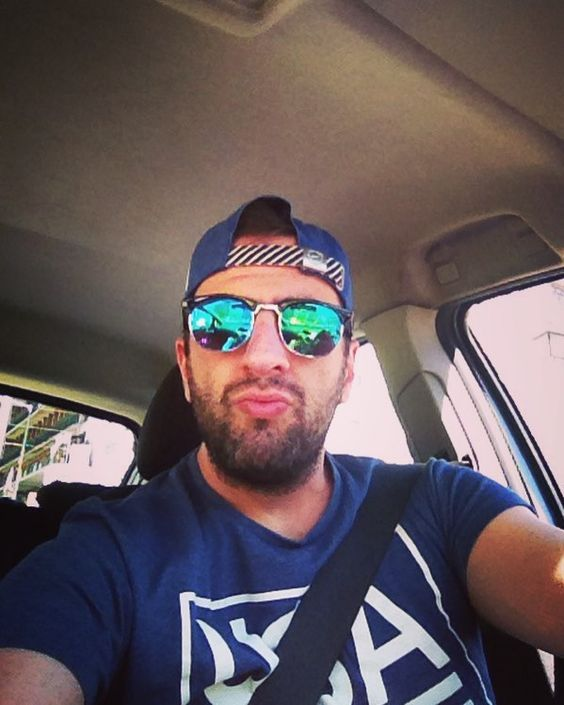sunglasses: (172, 294, 339, 357)
